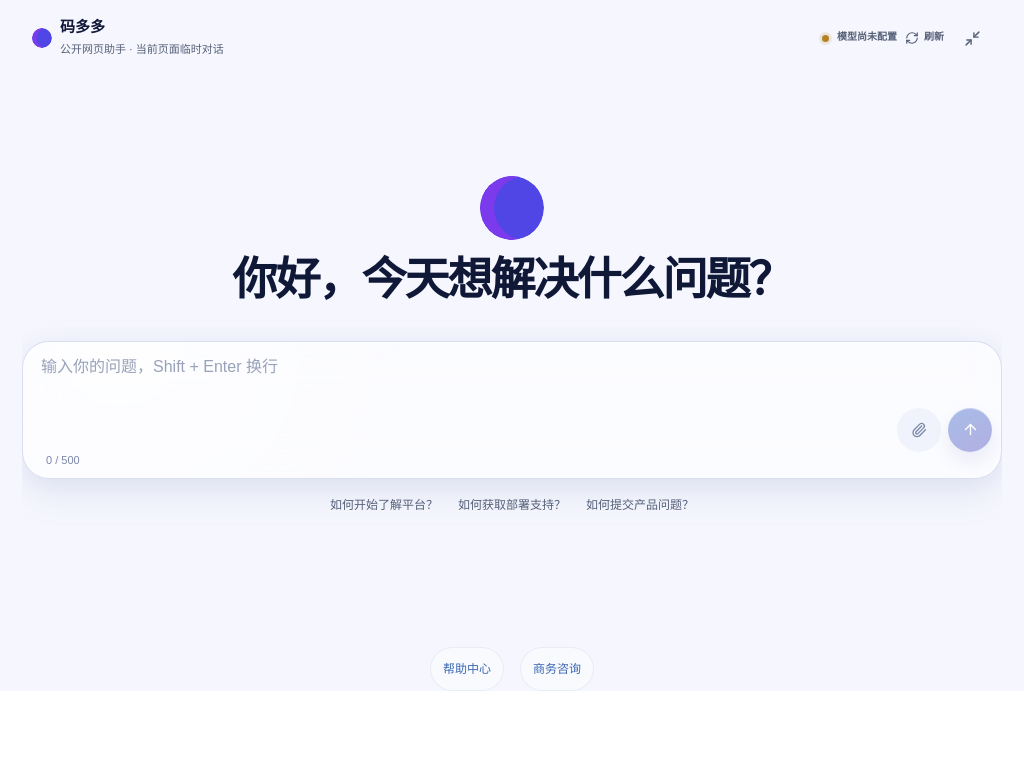
AssistantWorkspace › does not let a stale timed-out response overwrite a newer status
The image size is (1024, 768).
Click the button with aria-label "刷新服务状态": (924, 38) x1=905 y1=16 x2=944 y2=60
Wait 5000 ms
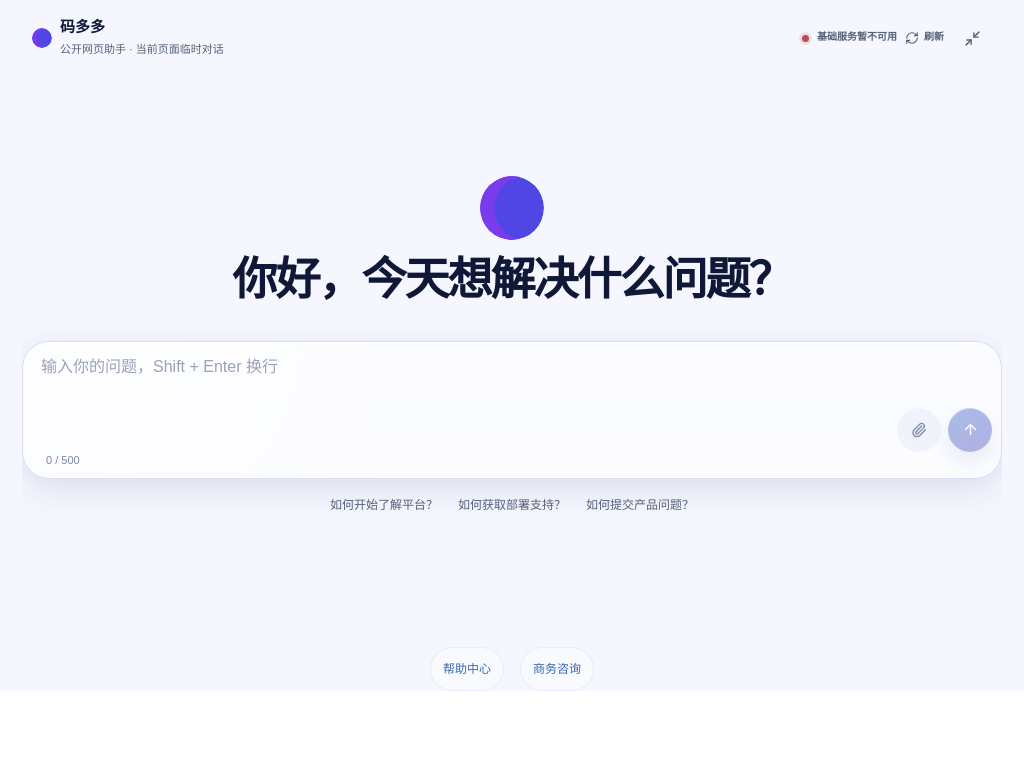
Click the button with aria-label "刷新服务状态": (924, 38) x1=905 y1=16 x2=944 y2=60
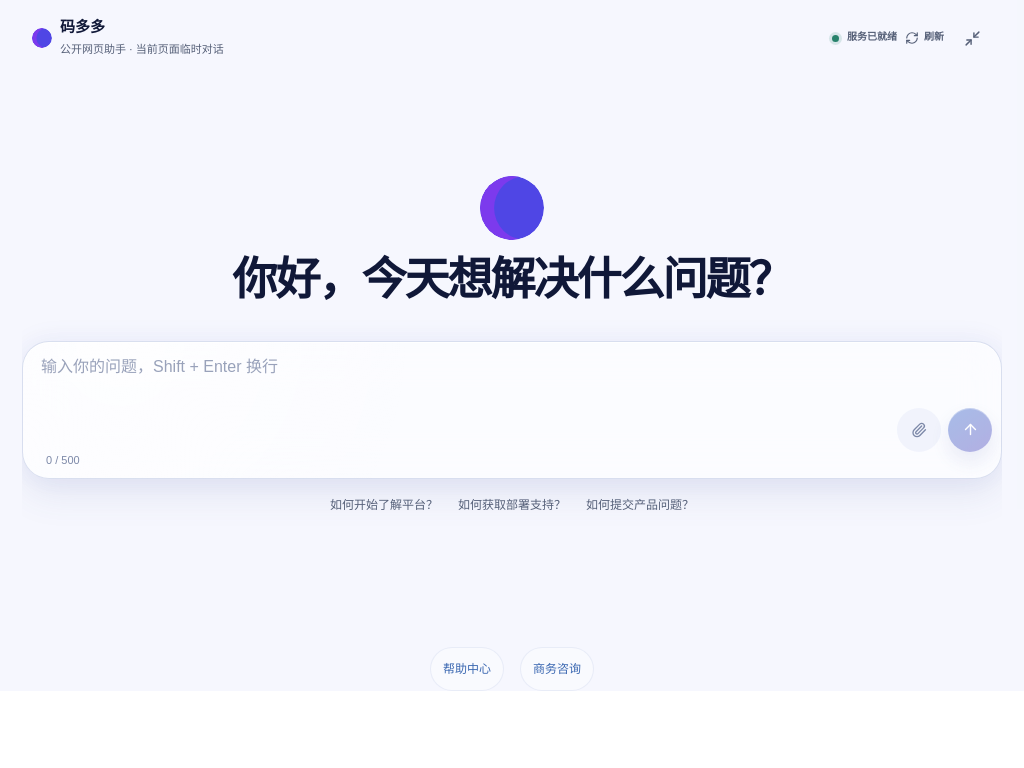
Now the message with test id "assistant-service-state" shows "服务已就绪", box x1=847 y1=32 x2=897 y2=43
